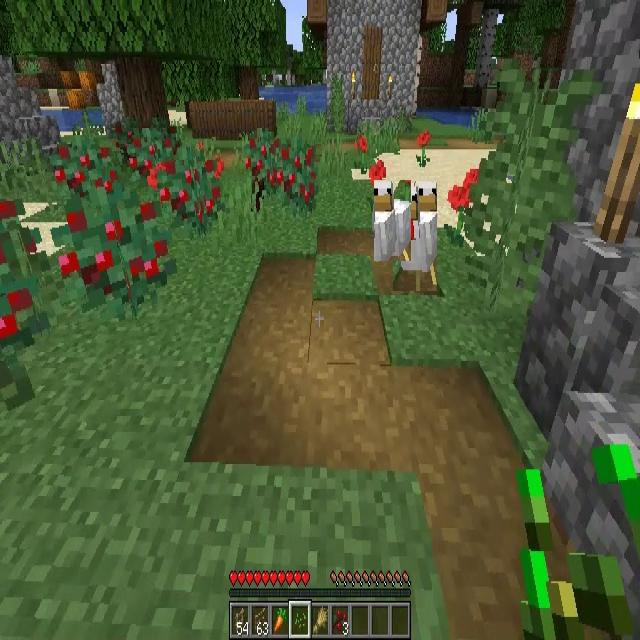duck: (393, 183, 437, 291), (374, 180, 411, 261)
flower: (446, 172, 478, 242), (366, 159, 385, 213), (418, 129, 430, 166), (357, 133, 367, 177)
